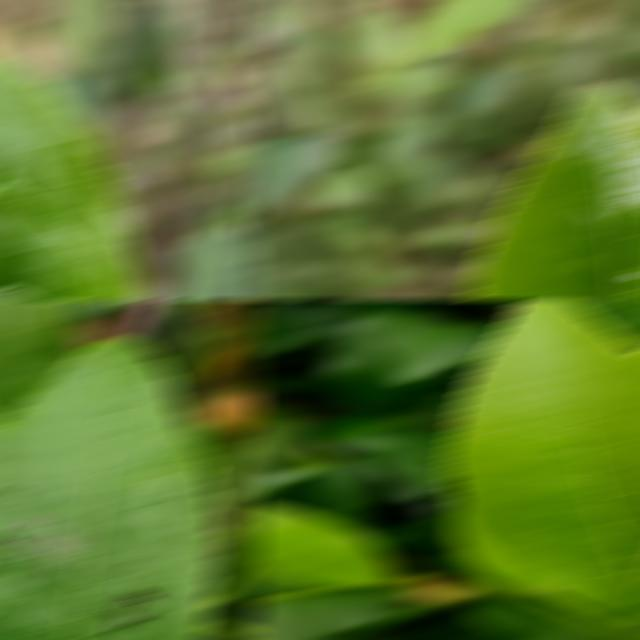Leaf: (0, 338, 223, 639), (444, 301, 640, 621), (465, 82, 640, 299), (0, 62, 145, 299), (250, 503, 398, 586), (315, 417, 457, 499), (250, 566, 405, 639), (0, 301, 82, 421), (368, 313, 505, 383), (250, 138, 341, 224), (407, 1, 532, 61), (160, 230, 262, 299), (205, 496, 262, 606), (462, 597, 608, 639), (113, 1, 172, 96), (250, 303, 349, 356), (60, 1, 117, 73), (250, 401, 313, 464), (172, 324, 216, 400), (224, 439, 262, 520)
